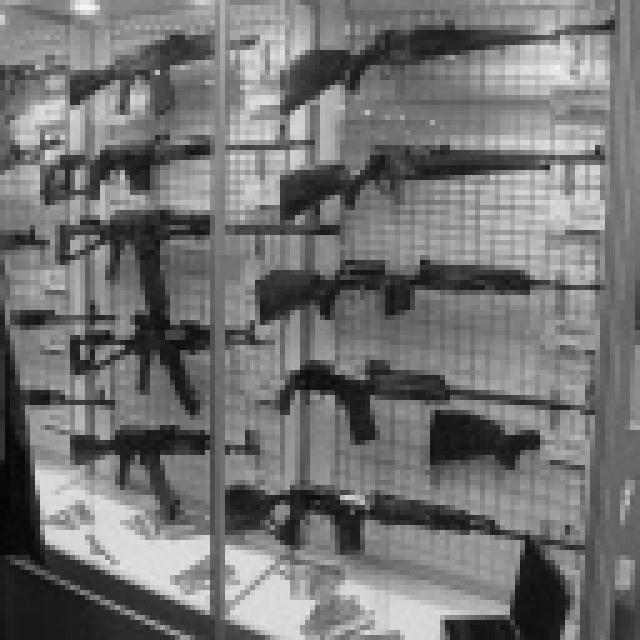Rifle: (265, 1, 637, 137), (210, 471, 584, 577), (39, 193, 398, 295), (252, 358, 609, 450), (258, 260, 614, 336), (62, 0, 265, 131), (46, 314, 287, 424), (12, 124, 316, 209), (49, 424, 274, 529), (261, 164, 640, 220), (12, 370, 138, 439), (0, 294, 134, 354), (0, 52, 69, 120), (0, 130, 65, 195), (0, 222, 46, 285), (272, 168, 278, 185)
